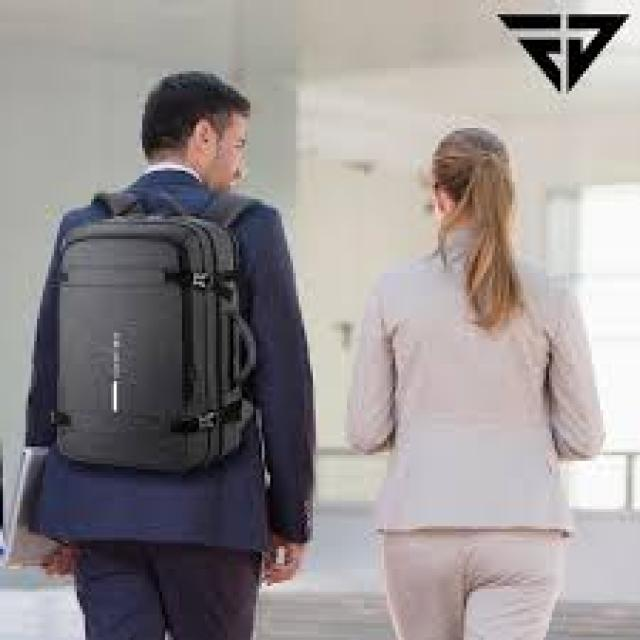backpack: (50, 192, 266, 476)
